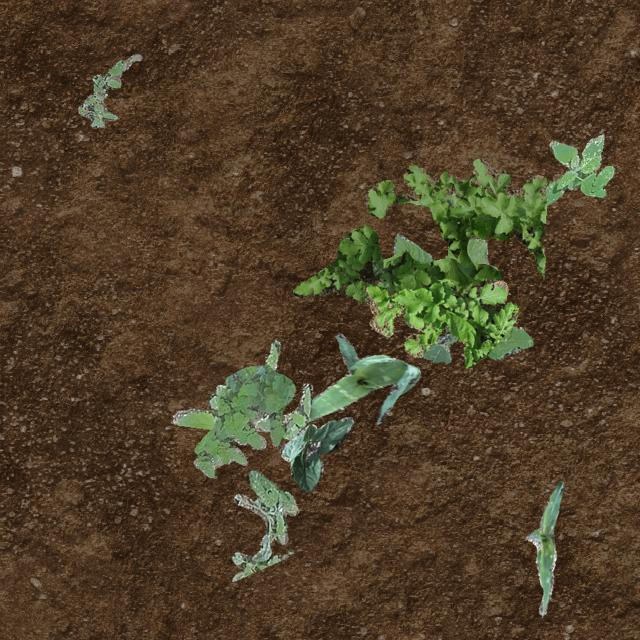crop: (306, 332, 420, 423), (278, 416, 352, 490), (524, 480, 564, 614)
weed: (292, 158, 546, 324), (392, 232, 532, 362), (170, 339, 312, 438), (364, 276, 518, 366), (192, 364, 294, 476), (230, 468, 298, 580), (544, 133, 614, 205), (76, 54, 140, 126)
